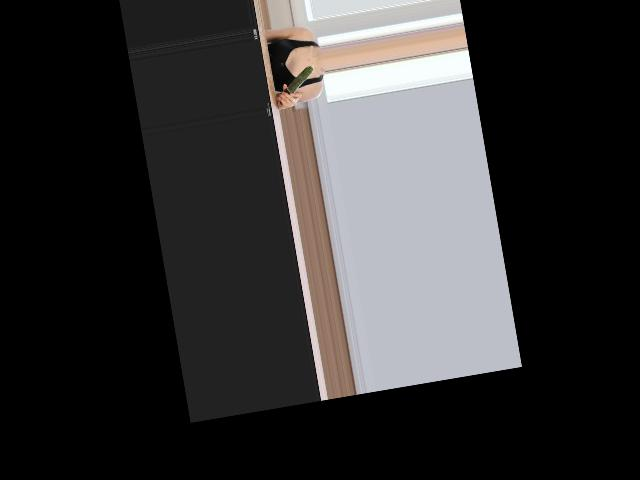cucumber: (274, 65, 319, 105)
